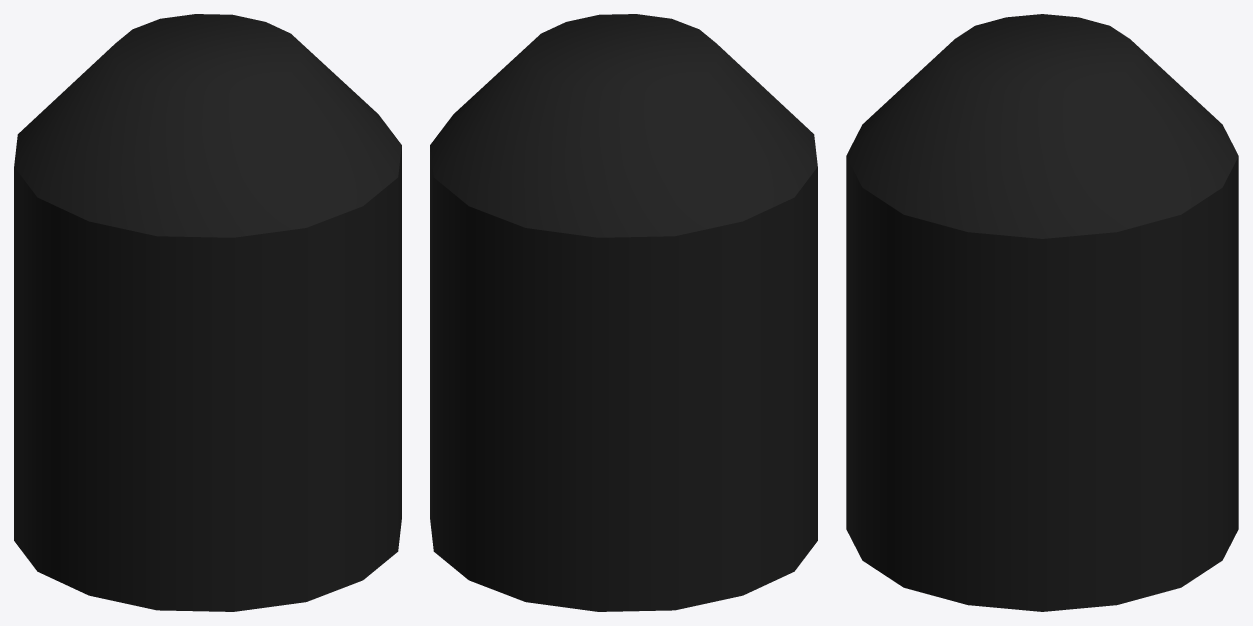
The model's file is BulbHolder.fbx.
3 views of the same model, side by side, from view 1: azimuth 30°, elevation 25°; view 2: azimuth 150°, elevation 25°; view 3: azimuth 270°, elevation 25° (orthographic).
Parts seen in each view (by area): view 1: BulbHolder; view 2: BulbHolder; view 3: BulbHolder.
Boxes of the visible parts, box(x1,y1,x2,y2) form: BulbHolder: box(14, 14, 401, 611); BulbHolder: box(430, 14, 817, 611); BulbHolder: box(846, 14, 1238, 611).
Size of the model in its own units: 2.99 by 3.99 by 2.99.
